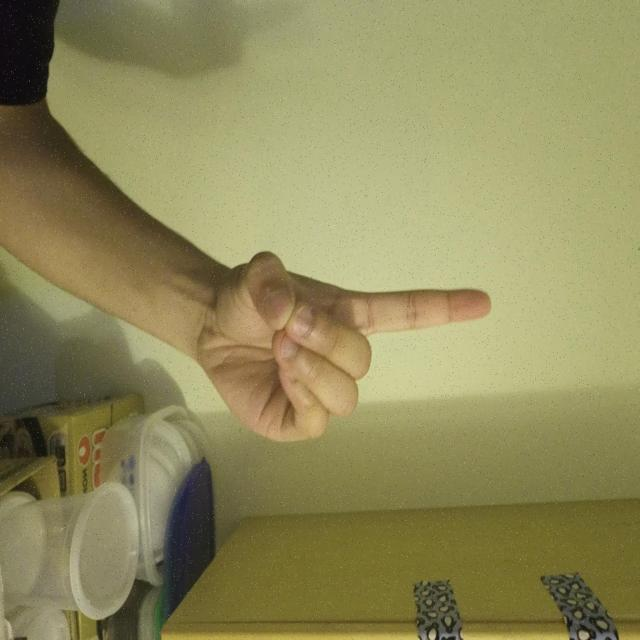D: (343, 182, 496, 601)
